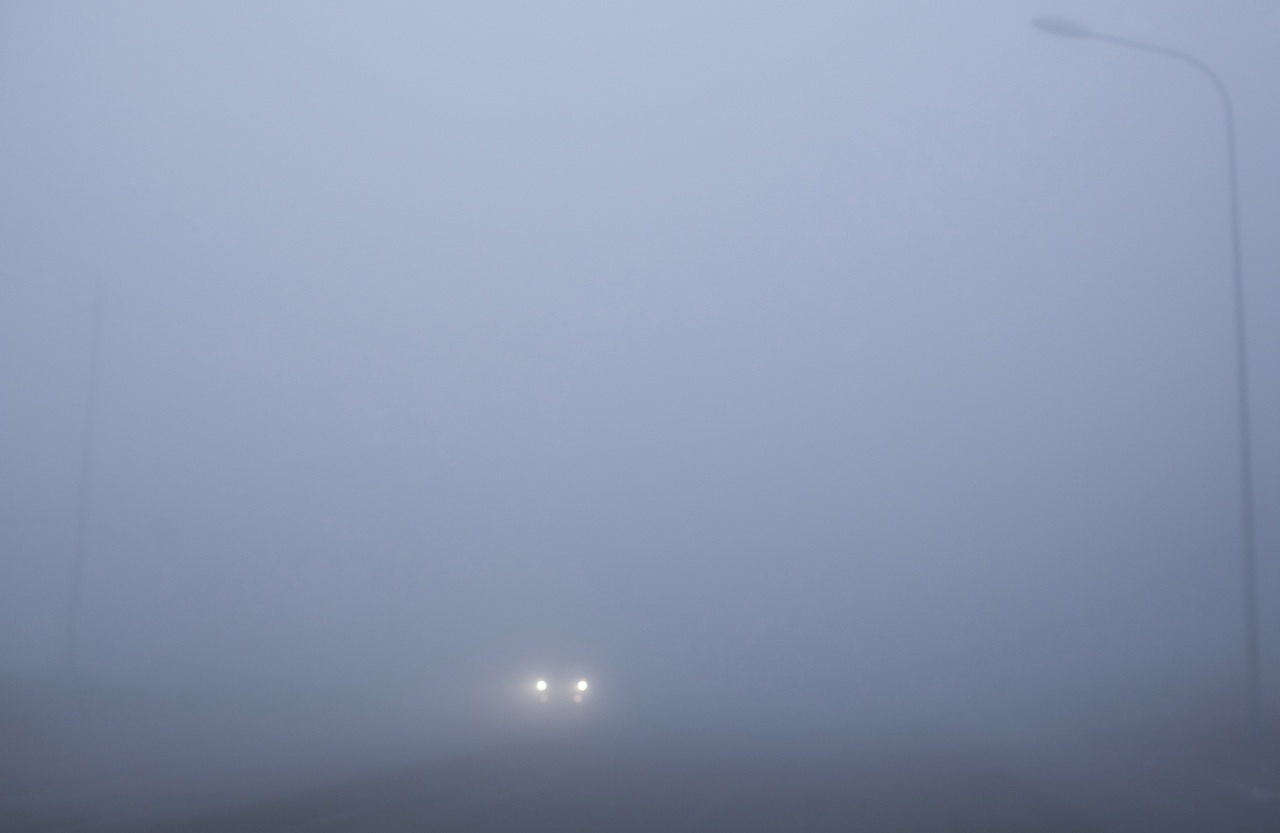car: (526, 658, 600, 700)
